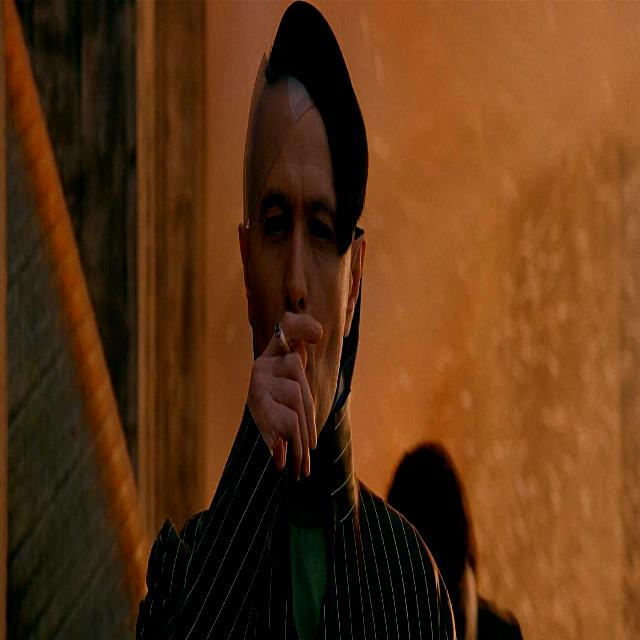Smooking: (270, 309, 290, 361)
